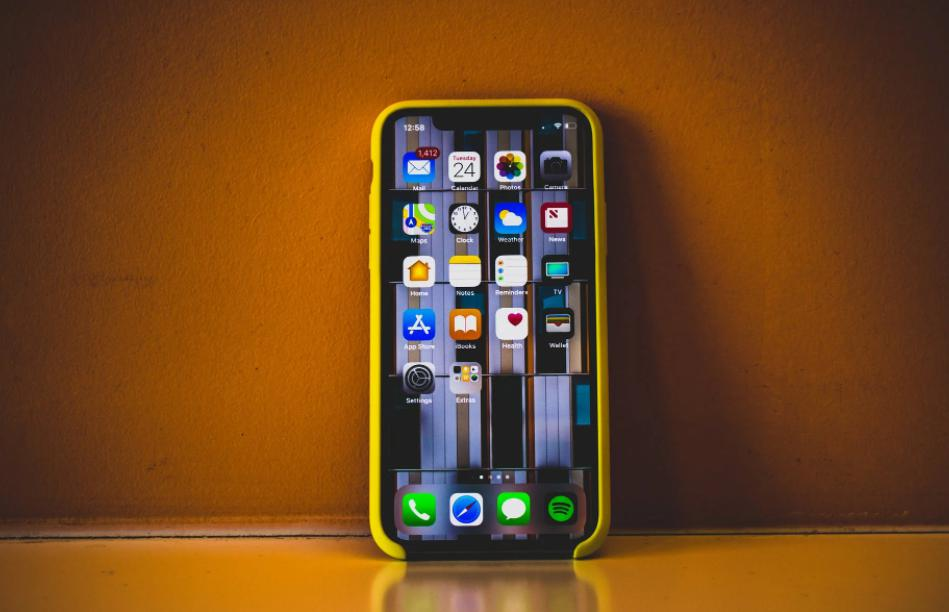mobile: (370, 99, 610, 559)
